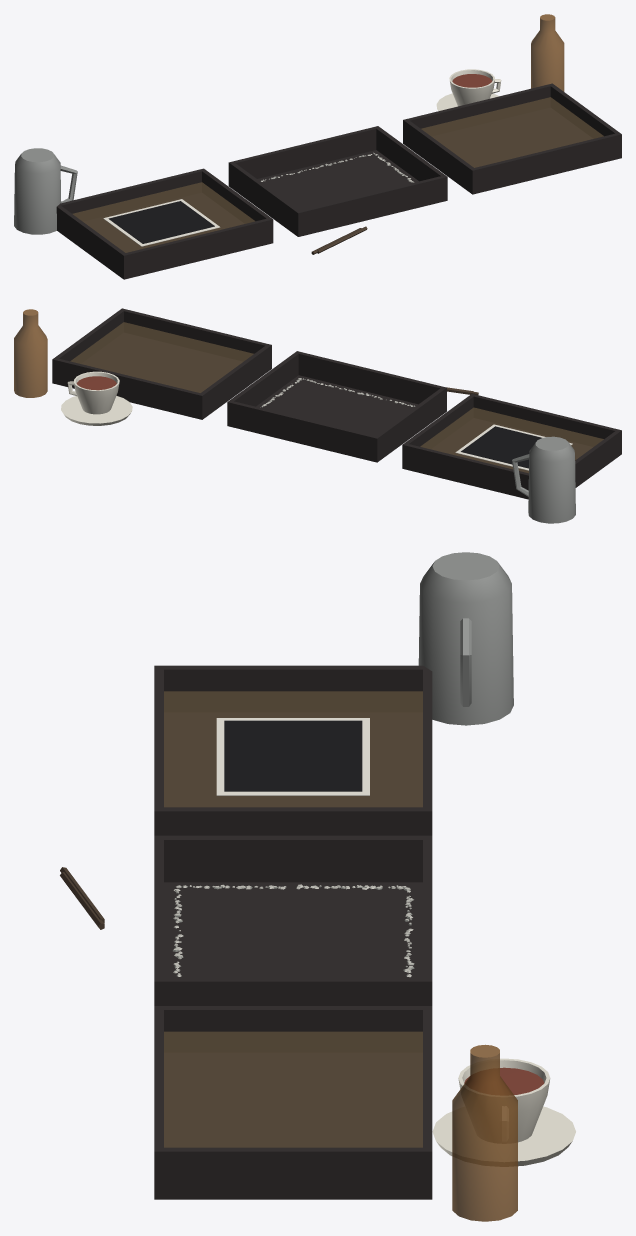
Rendered from tray-crystals-v1.glb.
The picture shows the model from 3 angles, top to bottom: view 1: azimuth 30°, elevation 25°; view 2: azimuth 150°, elevation 25°; view 3: azimuth 270°, elevation 25°; orthographic projection. The views are drawn at different scales.
Parts seen in each view (by area): view 1: 原显影台_停显盘结晶; view 2: 原显影台_停显盘结晶; view 3: 原显影台_停显盘结晶.
Boxes of the visible parts, left/top/right/bottom form: 原显影台_停显盘结晶: left=14, top=14, right=621, bottom=279; 原显影台_停显盘结晶: left=14, top=308, right=621, bottom=523; 原显影台_停显盘结晶: left=60, top=552, right=575, bottom=1221.
Bounding box in the file's own units: 1.32 × 0.18 × 0.5388.
